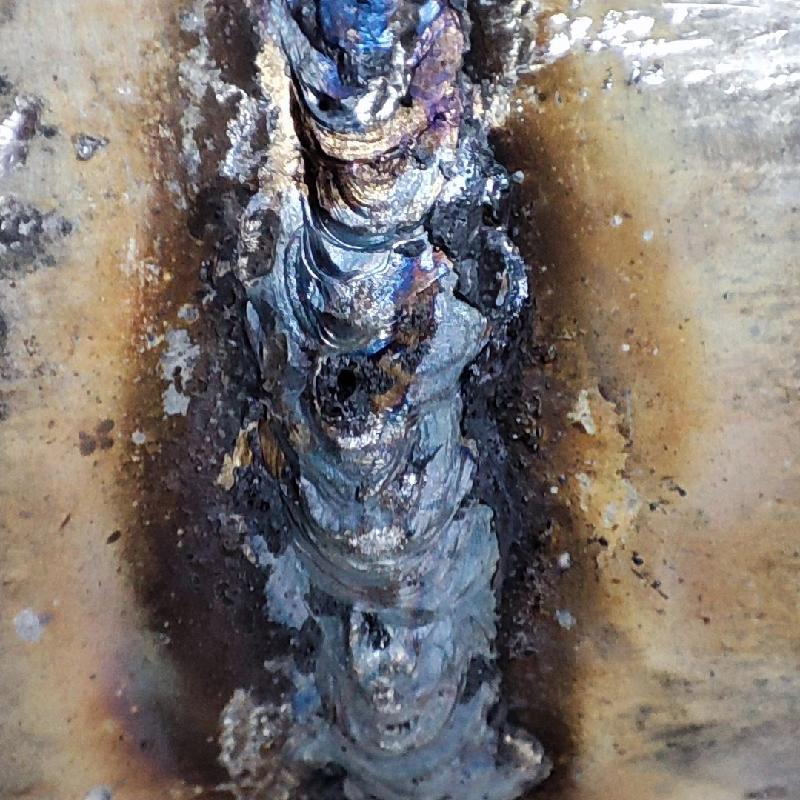Surface_pores: (315, 345, 387, 432), (304, 83, 370, 141), (383, 75, 435, 122)
